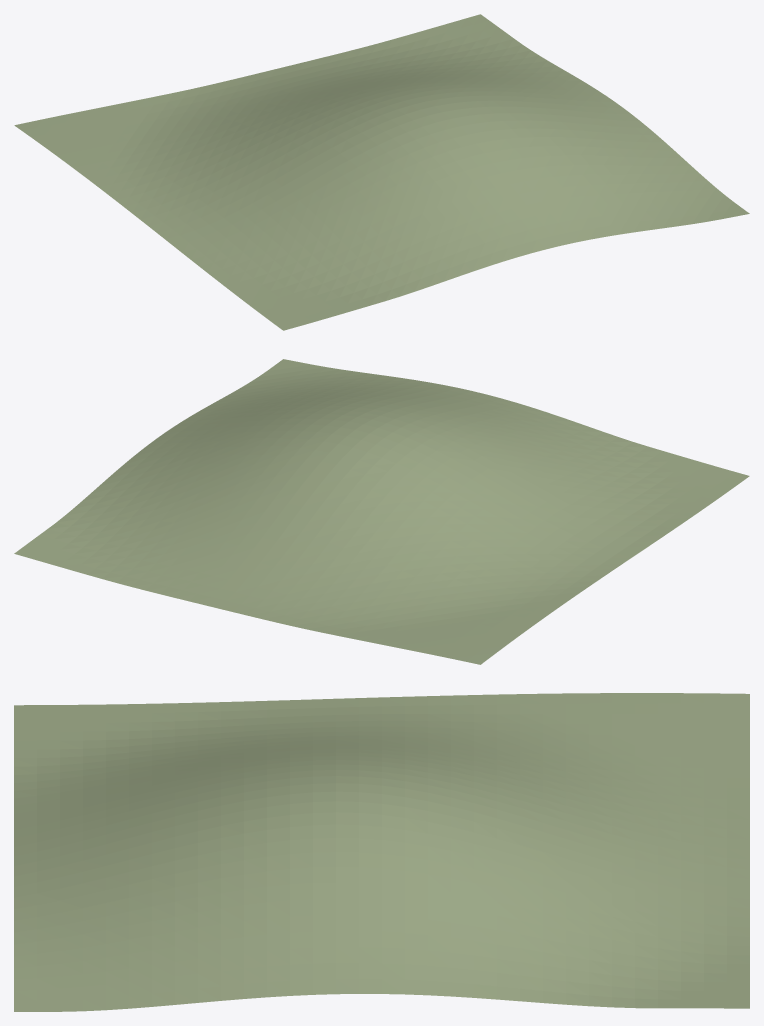
Rendered from coast-2-2.glb.
3 renders of one model, top to bottom at view 1: azimuth 30°, elevation 25°; view 2: azimuth 150°, elevation 25°; view 3: azimuth 270°, elevation 25°, orthographic. The views are drawn at different scales.
Parts seen in each view (by area): view 1: coast-2-2; view 2: coast-2-2; view 3: coast-2-2.
Boxes of the visible parts, x1,y1,x2,y2 form: coast-2-2: [14, 14, 749, 330]; coast-2-2: [14, 359, 749, 664]; coast-2-2: [14, 693, 749, 1011].
Size of the model in its own units: 256 by 33.96 by 256.
